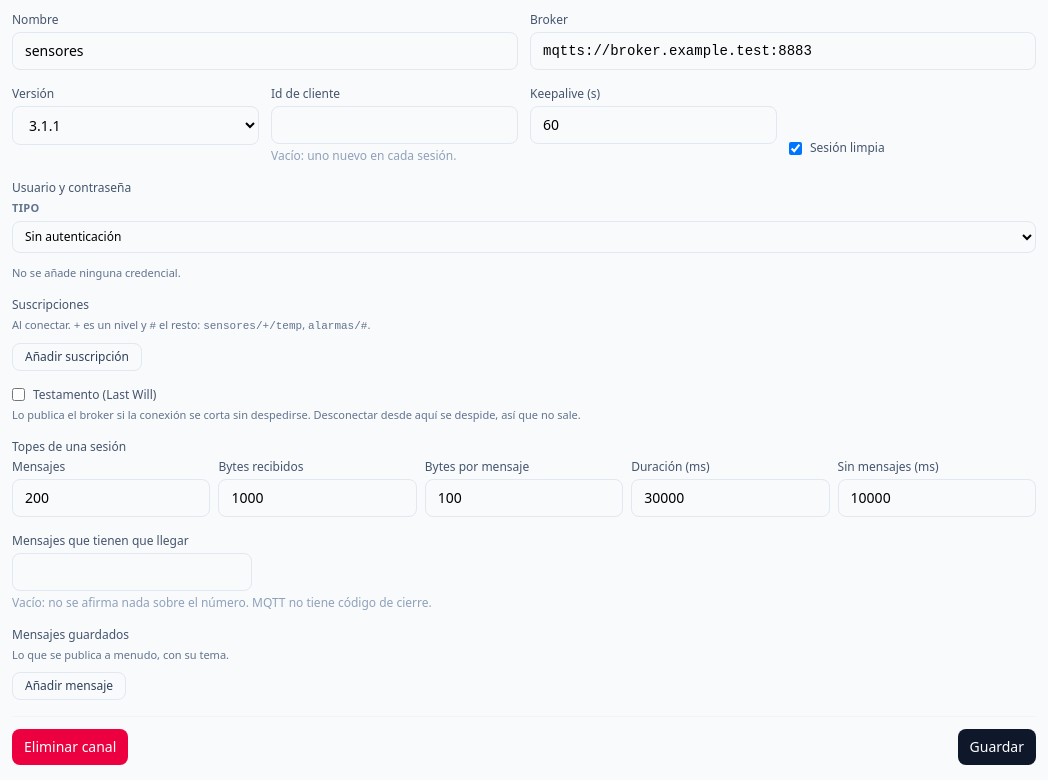
Test: la configuración de un canal MQTT › sin credencial ni ajustes MQTT parte de los valores por omisión, y guarda sin credencial
Expected: the dropdown labelled "Versión" shows "3.1.1", [12, 106, 259, 145]
Expected: the number field labelled "Keepalive (s)" holds "60", [530, 106, 777, 144]
Click the button "Guardar": (997, 746) [958, 728, 1036, 764]
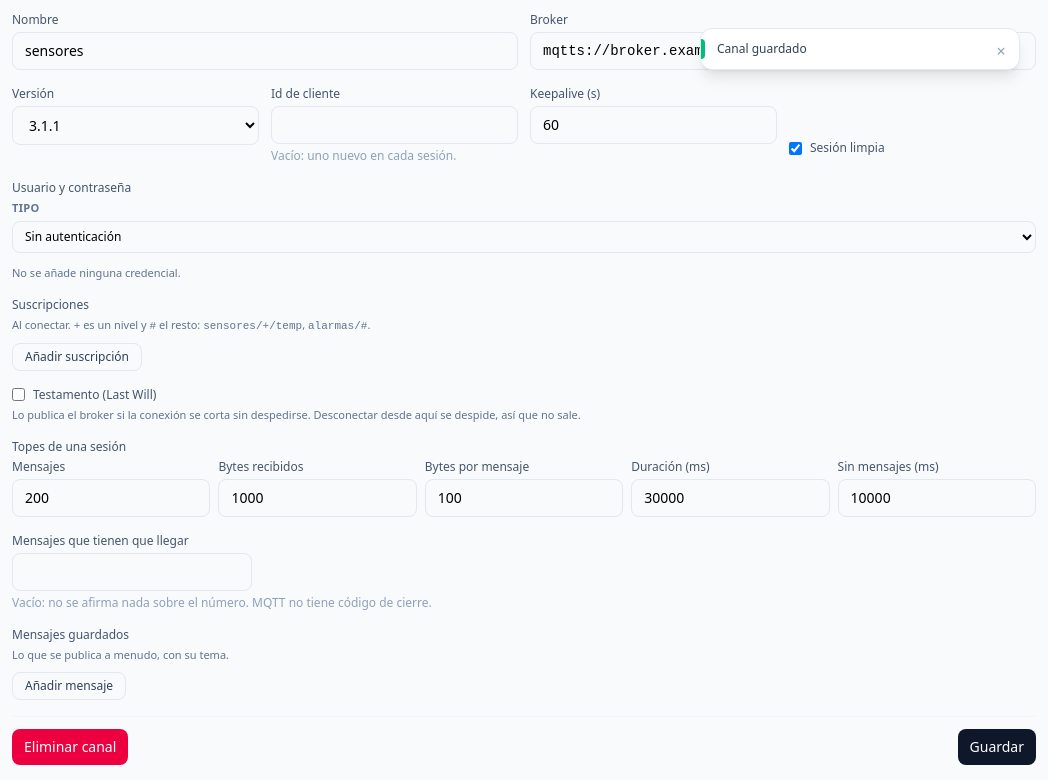
Expected: the text "Canal guardado" is shown, [717, 40, 807, 57]
